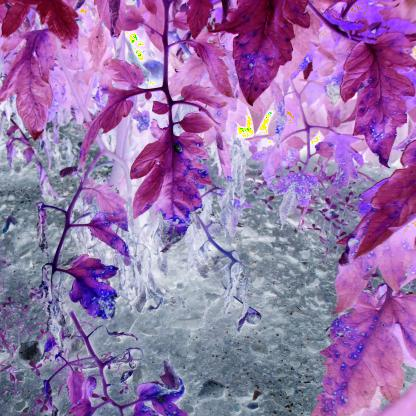Tomato Septoria leaf spot: (309, 286, 402, 416), (334, 40, 416, 170), (131, 124, 213, 248), (222, 4, 309, 113), (62, 252, 121, 322), (89, 217, 130, 257)
